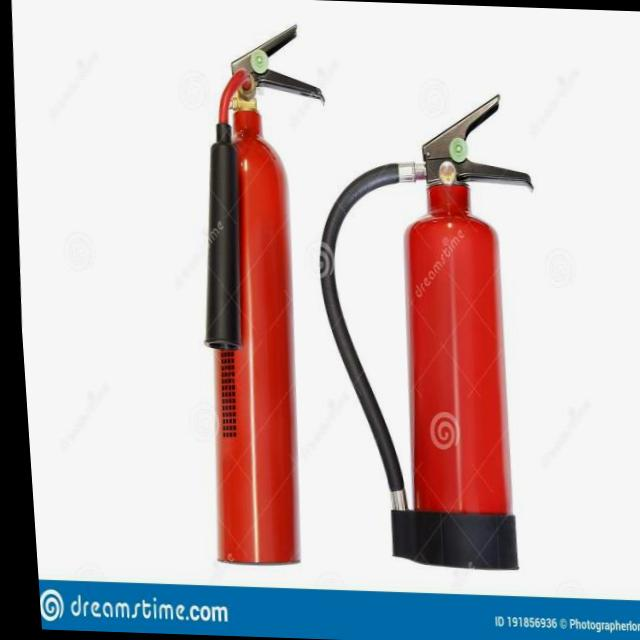FireExtinguisher: (293, 83, 558, 578), (168, 20, 354, 575)
